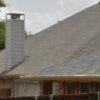Chimney: (2, 8, 30, 68)
